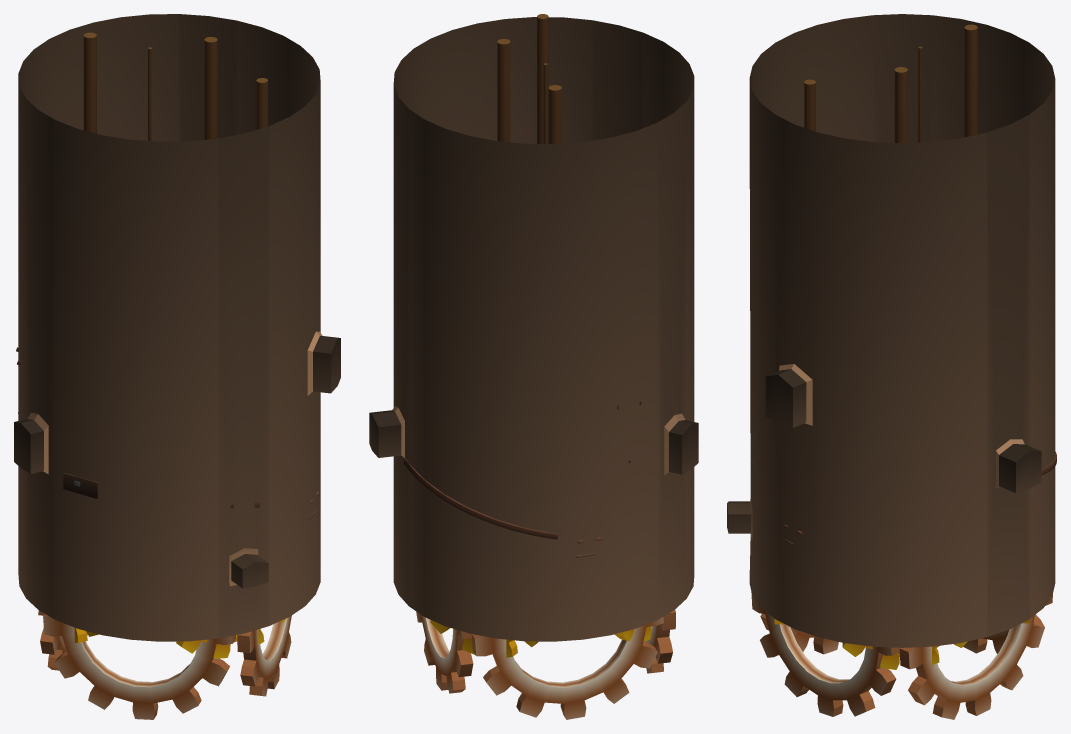
File: map.fbx
3 views of the same model, side by side, from view 1: azimuth 30°, elevation 25°; view 2: azimuth 150°, elevation 25°; view 3: azimuth 270°, elevation 25° (orthographic).
Visible parts, largest first — view 1: Cylinder.033, Gear.031, Gear.030, Gear.027, Circle.006, Gear.028; view 2: Cylinder.033, Gear.027, Gear.029, Cylinder.036, Gear.031, Gear.009; view 3: Cylinder.033, Gear.029, Gear.030, Gear.031, Gear.025, Gear.027.
Part boxes in pixels (x1,y1,x2,y2): Cylinder.033: (14,14,340,641); Gear.031: (43,614,236,719); Gear.030: (237,615,291,696); Gear.027: (38,610,87,670); Circle.006: (63,472,97,498); Gear.028: (176,618,285,658); Cylinder.033: (369,14,698,641); Gear.027: (471,617,663,719); Gear.029: (416,611,473,693); Cylinder.036: (404,458,558,539); Gear.031: (645,610,675,673); Gear.009: (430,620,538,657); Cylinder.033: (727,14,1055,647); Gear.029: (899,615,1044,719); Gear.030: (751,592,899,716); Gear.031: (760,613,838,654); Gear.025: (842,641,967,669); Gear.027: (963,594,1052,653).
Size of the model in its own units: 163 by 349 by 165.
